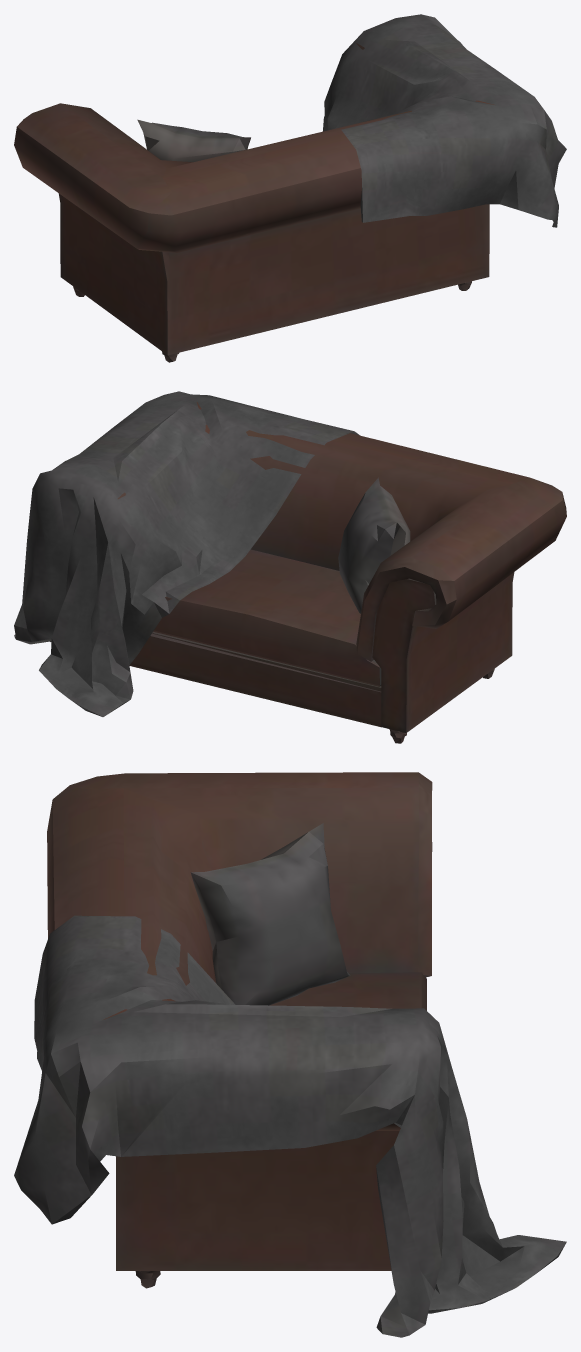
File: settee-leather-throw.lod1.glb
The picture shows the model from 3 angles, top to bottom: view 1: azimuth 30°, elevation 25°; view 2: azimuth 150°, elevation 25°; view 3: azimuth 270°, elevation 25°; orthographic projection. The views are drawn at different scales.
Visible parts, largest first — view 1: settee-leather-throw; view 2: settee-leather-throw; view 3: settee-leather-throw.
Part boxes in pixels (<box>): settee-leather-throw: <box>14,14,566,362</box>; settee-leather-throw: <box>14,391,566,743</box>; settee-leather-throw: <box>14,772,566,1337</box>.
Bounding box in the file's own units: 1.82 × 0.7684 × 1.33.
2 materials, 2 textured.
